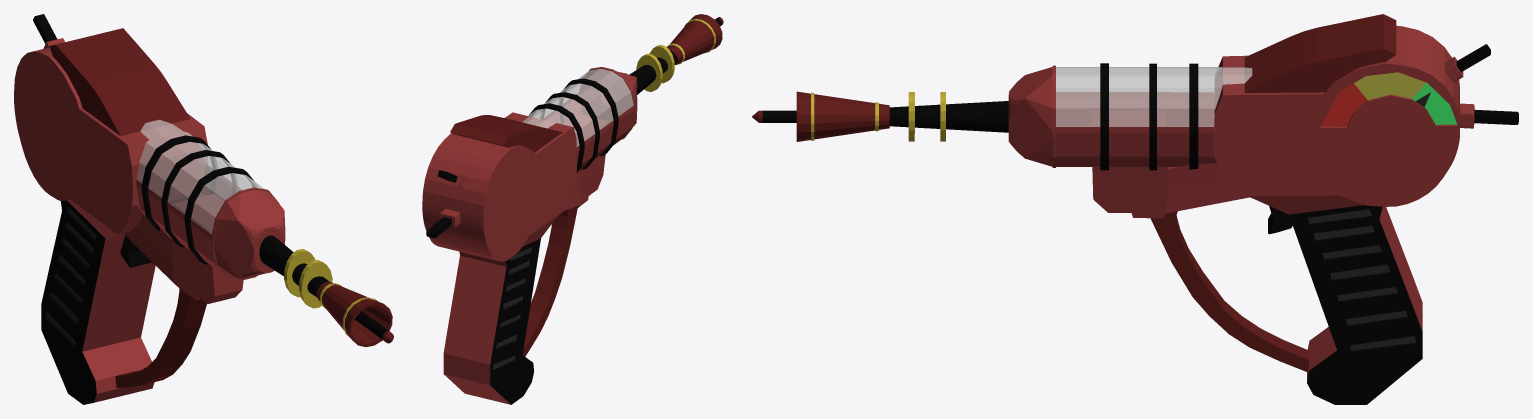
The model's file is Item_VenomExtractor.fbx.
The picture shows the model from 3 angles, left to right: view 1: azimuth 30°, elevation 25°; view 2: azimuth 150°, elevation 25°; view 3: azimuth 270°, elevation 25°; orthographic projection. The views are drawn at different scales.
Visible parts, largest first — view 1: Cube; view 2: Cube; view 3: Cube.
Part boxes in pixels (bbox=[...]): Cube: bbox=[14, 14, 393, 404]; Cube: bbox=[422, 14, 723, 404]; Cube: bbox=[752, 14, 1518, 404].
Bounding box in the file's own units: 58.6 × 250 × 483.
